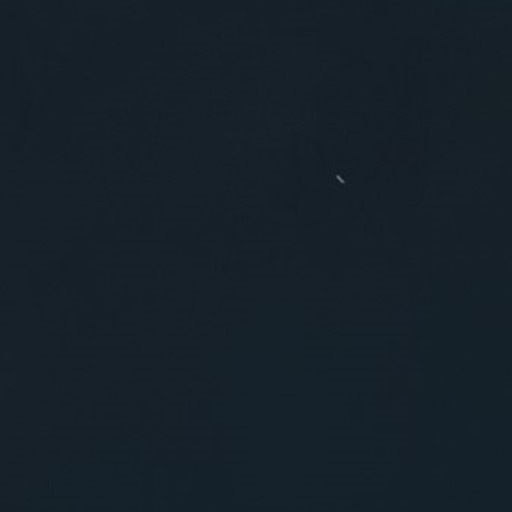ship: (331, 171, 348, 186)
